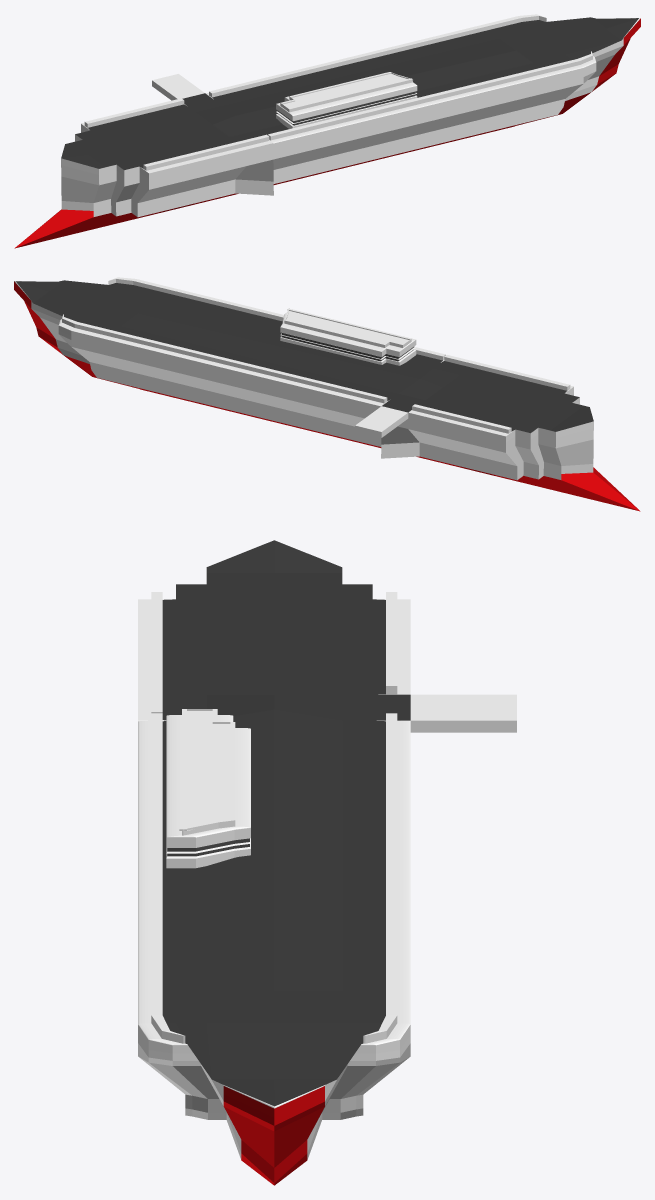
Rendered from aircraftcarriernew.glb.
3 renders of one model, top to bottom at view 1: azimuth 30°, elevation 25°; view 2: azimuth 150°, elevation 25°; view 3: azimuth 270°, elevation 25°, orthographic. The views are drawn at different scales.
Parts seen in each view (by area): view 1: Cube; view 2: Cube; view 3: Cube.
Boxes of the visible parts, left/top/right/bottom form: Cube: left=14, top=14, right=640, bottom=248; Cube: left=14, top=277, right=640, bottom=511; Cube: left=138, top=540, right=516, bottom=1185.
Bounding box in the file's own units: 263 × 37.94 × 68.87.
